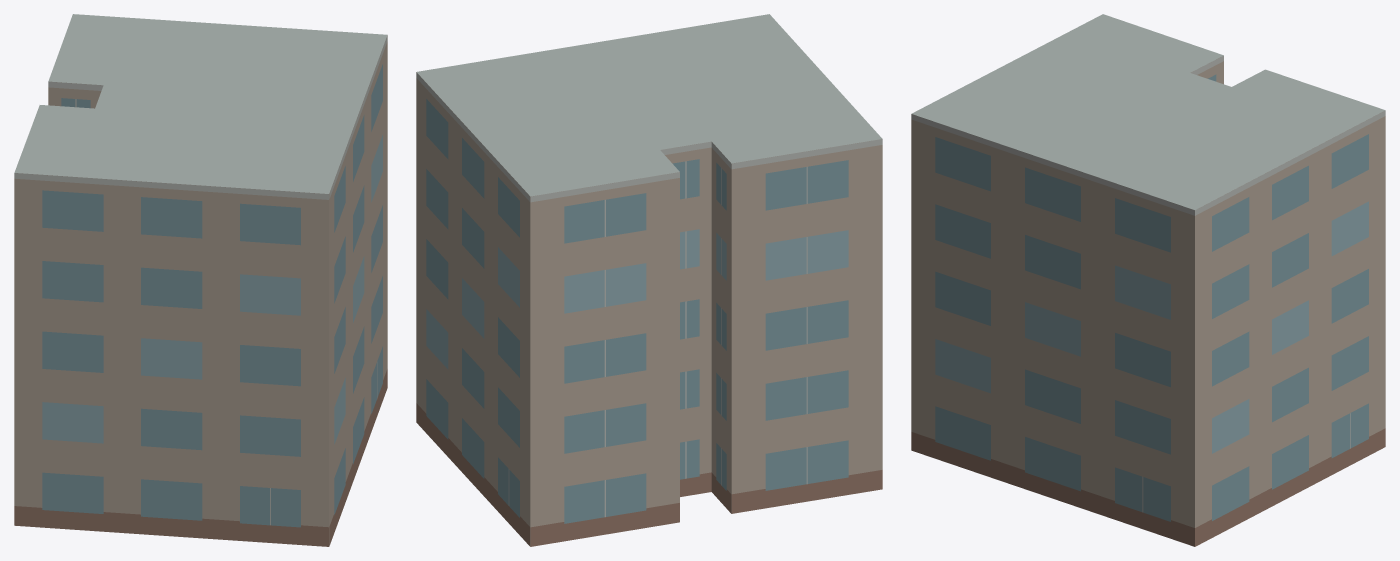
The model's file is survey-upis-32889316.glb.
The picture shows the model from 3 angles, left to right: view 1: azimuth 30°, elevation 25°; view 2: azimuth 150°, elevation 25°; view 3: azimuth 270°, elevation 25°; orthographic projection. The views are drawn at different scales.
Parts seen in each view (by area): view 1: survey-upis-32889316.tmp; view 2: survey-upis-32889316.tmp; view 3: survey-upis-32889316.tmp.
Boxes of the visible parts, x1,y1,x2,y2 form: survey-upis-32889316.tmp: (14, 14, 387, 546); survey-upis-32889316.tmp: (416, 14, 882, 546); survey-upis-32889316.tmp: (911, 14, 1385, 546).
Size of the model in its own units: 18.26 by 14.6 by 18.65.
